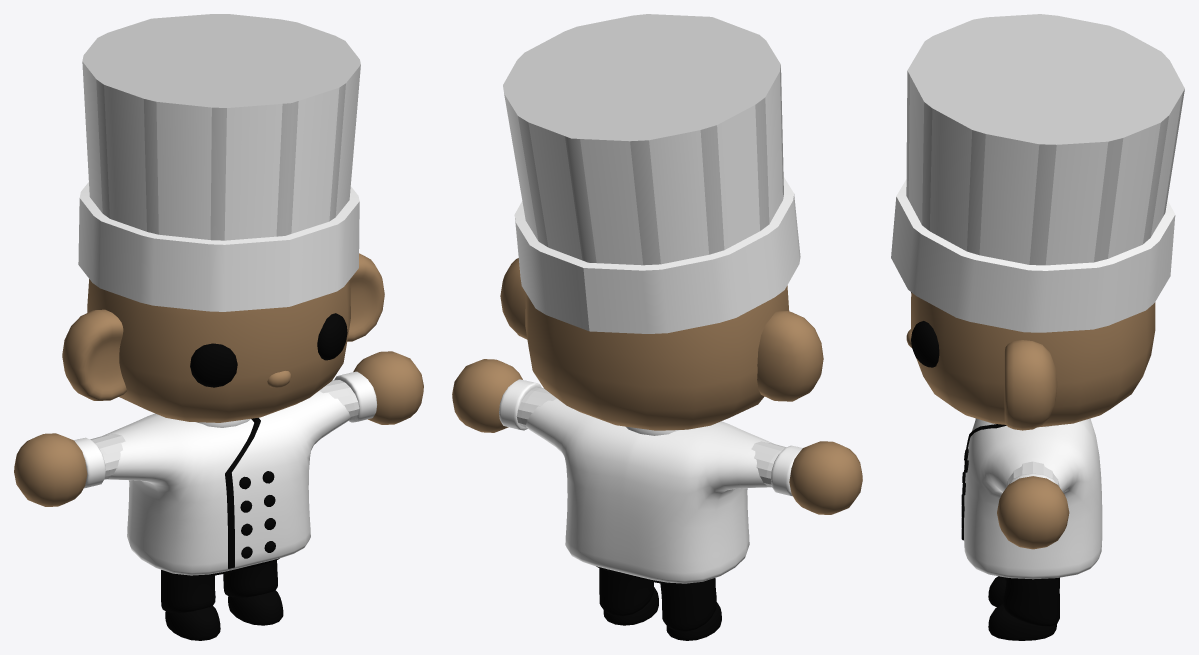
Rendered from Chef (1) 2.fbx.
3 views of the same model, side by side, from view 1: azimuth 30°, elevation 25°; view 2: azimuth 150°, elevation 25°; view 3: azimuth 270°, elevation 25° (orthographic).
Parts seen in each view (by area): view 1: Cylinder.010, Cube.007, Cube, Cube.004, Cube.001, Cube.006, Cube.005, Cube.013, Cube.010, Cube.009, Cube.012; view 2: Cylinder.010, Cube.007, Cube, Cube.004, Cube.001, Cube.006, Cube.010, Cube.009, Cube.005; view 3: Cylinder.010, Cube, Cube.007, Cube.001, Cube.004, Cube.006, Cube.005, Cube.013, Cube.009.
Boxes of the visible parts, x1,y1,x2,y2 form: Cylinder.010: (78, 14, 360, 311); Cube.007: (103, 391, 350, 575); Cube: (87, 279, 350, 422); Cube.004: (14, 351, 423, 506); Cube.001: (62, 253, 384, 400); Cube.006: (161, 560, 277, 612); Cube.005: (165, 590, 283, 640); Cube.013: (190, 313, 347, 387); Cube.010: (74, 371, 377, 488); Cube.009: (90, 380, 359, 479); Cube.012: (225, 417, 260, 568); Cylinder.010: (503, 14, 800, 333); Cube.007: (526, 398, 773, 583); Cube: (525, 285, 789, 430); Cube.004: (452, 359, 862, 514); Cube.001: (500, 258, 823, 401); Cube.006: (599, 568, 716, 631); Cube.010: (499, 379, 802, 496); Cube.009: (516, 387, 786, 487); Cube.005: (603, 587, 721, 640); Cylinder.010: (891, 14, 1184, 332); Cube: (911, 292, 1155, 427); Cube.007: (964, 418, 1102, 579); Cube.001: (1004, 340, 1057, 430); Cube.004: (997, 476, 1069, 549); Cube.006: (1003, 577, 1059, 626); Cube.005: (988, 576, 1056, 640); Cube.013: (911, 292, 939, 367); Cube.009: (1006, 461, 1059, 487).
Bounding box in the file's own units: 196 × 263 × 126.
